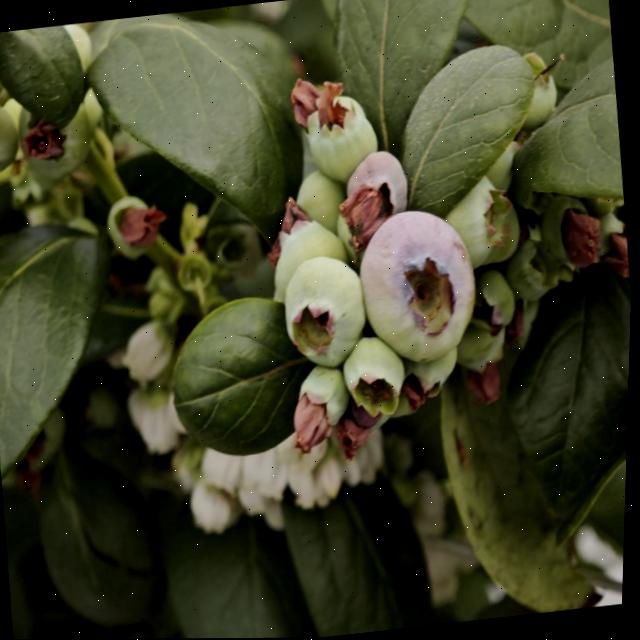Semi-RipeBlueBerry: (338, 145, 416, 233)
UnripeBlueBerry: (354, 202, 487, 368), (279, 251, 373, 370), (300, 92, 382, 180), (441, 174, 507, 273), (338, 334, 414, 419)
